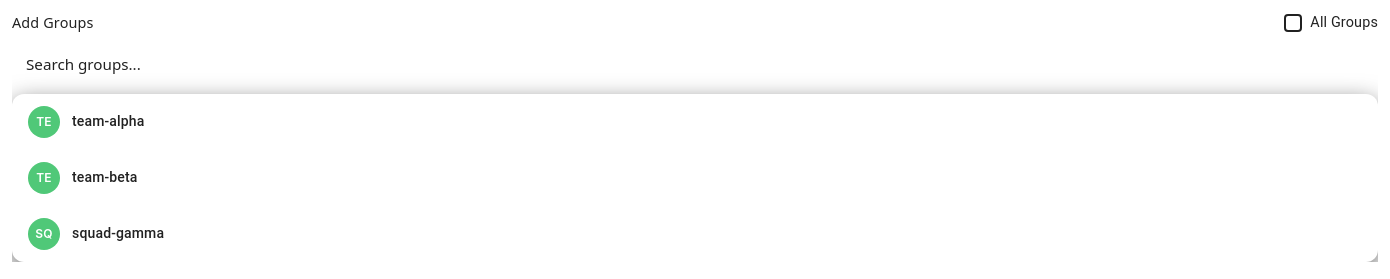
Test: GroupSelectionPanel › Search with Different Data Formats › should search string groups
Type "team" into the field with placeholder "Search groups..." at [695, 64], box [12,42,1378,86]
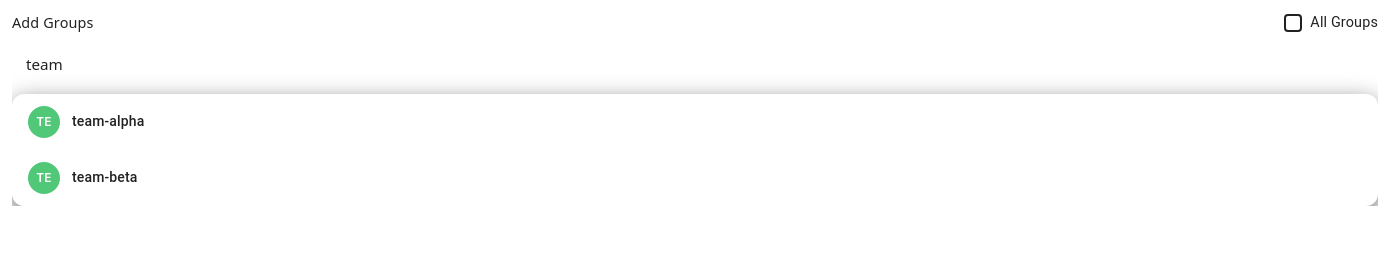
Expected: the button "squad-gamma" is gone
